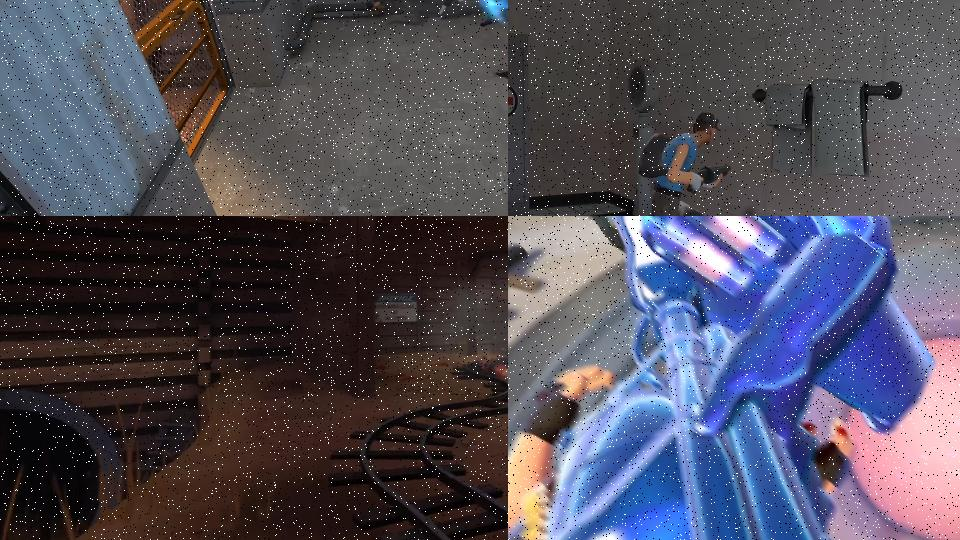Enemy: (511, 216, 938, 540), (608, 111, 739, 216), (437, 0, 489, 19), (475, 354, 508, 381), (476, 0, 508, 26)
